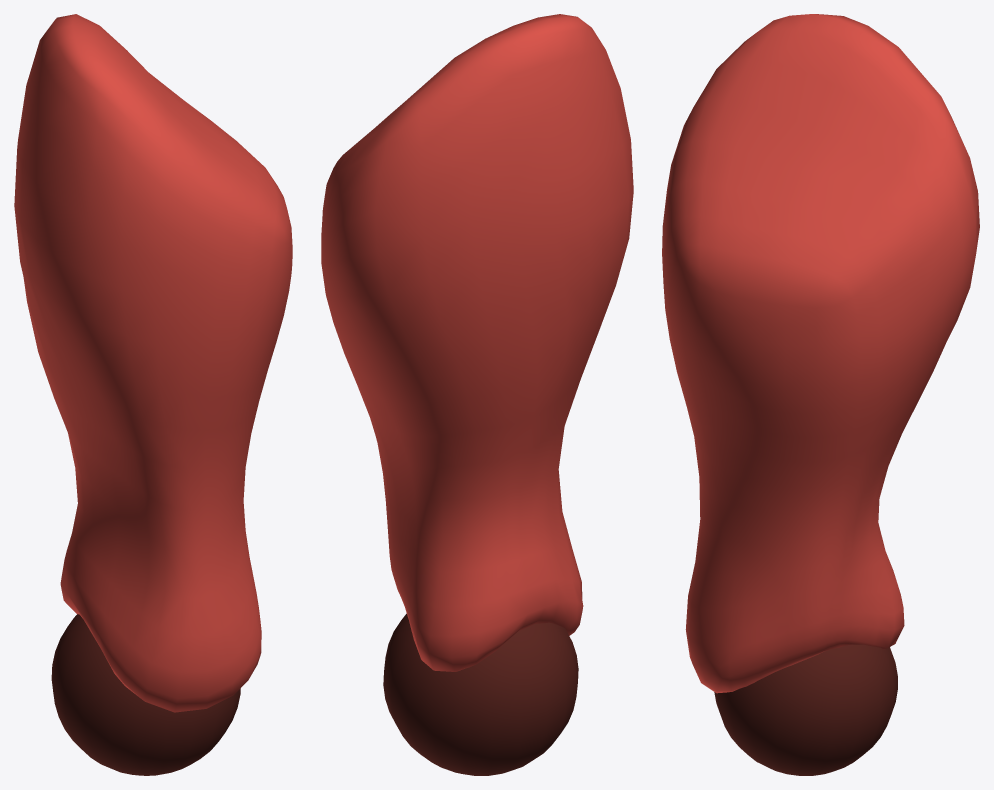
File: musloDer.obj
3 renders of one model, left to right at view 1: azimuth 30°, elevation 25°; view 2: azimuth 150°, elevation 25°; view 3: azimuth 270°, elevation 25°, orthographic. The views are drawn at different scales.
Parts seen in each view (by area): view 1: Beta_Surface.007_Mesh.008, Beta_Joints.005_Mesh.013; view 2: Beta_Surface.007_Mesh.008, Beta_Joints.005_Mesh.013; view 3: Beta_Surface.007_Mesh.008, Beta_Joints.005_Mesh.013.
Boxes of the visible parts, <box> form: Beta_Surface.007_Mesh.008: <box>14,14,292,712</box>; Beta_Joints.005_Mesh.013: <box>51,614,240,775</box>; Beta_Surface.007_Mesh.008: <box>321,14,633,671</box>; Beta_Joints.005_Mesh.013: <box>383,613,578,775</box>; Beta_Surface.007_Mesh.008: <box>662,14,979,693</box>; Beta_Joints.005_Mesh.013: <box>714,644,897,775</box>.
Size of the model in its own units: 0.184 by 0.5268 by 0.2105.
